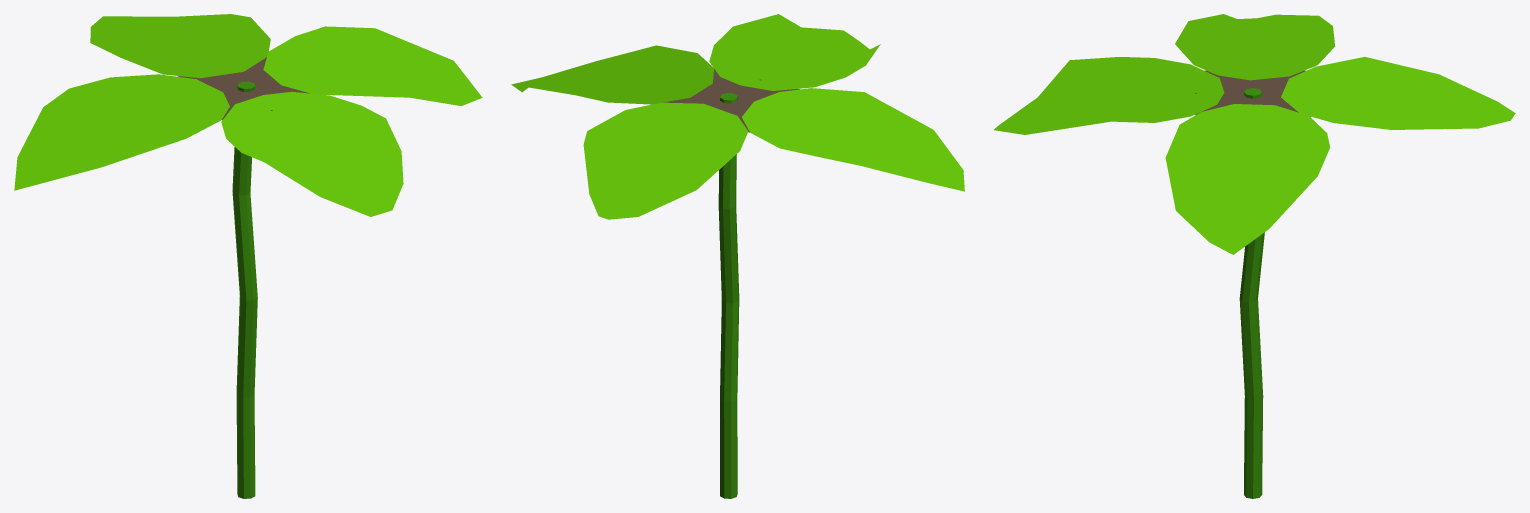
The model's file is green_flower.glb.
3 views of the same model, side by side, from view 1: azimuth 30°, elevation 25°; view 2: azimuth 150°, elevation 25°; view 3: azimuth 270°, elevation 25° (orthographic). The views are drawn at different scales.
Visible parts, largest first — view 1: BézierCircle.003; view 2: BézierCircle.003; view 3: BézierCircle.003.
Part boxes in pixels (bbox=[...]): BézierCircle.003: bbox=[14, 14, 482, 498]; BézierCircle.003: bbox=[511, 14, 964, 498]; BézierCircle.003: bbox=[994, 14, 1515, 498].
Bounding box in the file's own units: 0.5054 × 0.4335 × 0.5056.
Materials: 1 (1 with a texture image).
